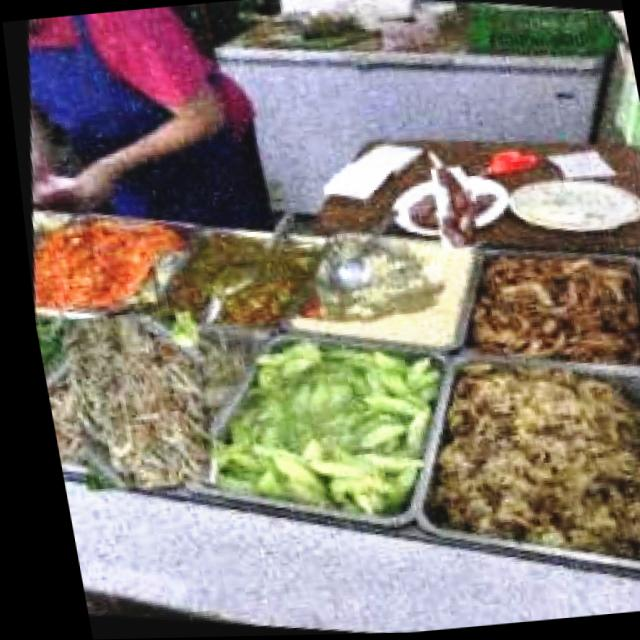carrot_eggs: (34, 225, 129, 308)
mung_bean_sprouts: (35, 302, 226, 505)
